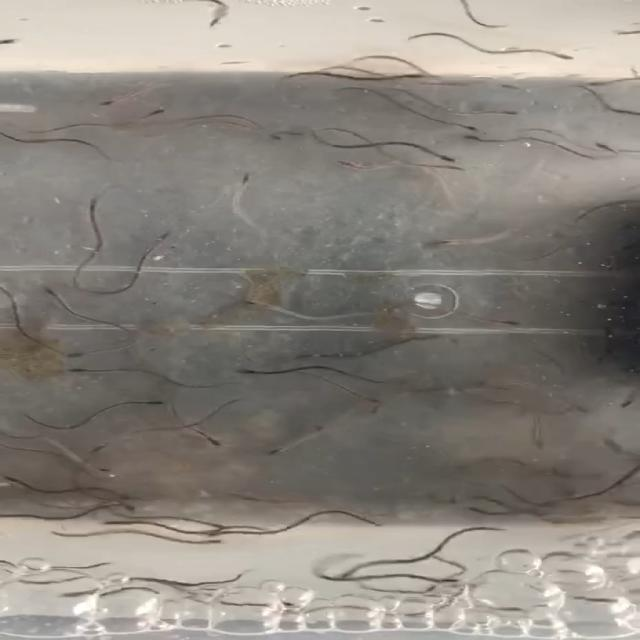active_glass_eel: (116, 228, 191, 256), (480, 314, 548, 343), (249, 128, 310, 152), (22, 130, 76, 156), (279, 517, 342, 539), (142, 104, 198, 128), (23, 283, 88, 303), (202, 526, 258, 548), (214, 170, 264, 194), (357, 400, 413, 421), (112, 487, 151, 517), (230, 286, 274, 312), (334, 148, 369, 180), (332, 562, 380, 585), (45, 351, 98, 371), (428, 574, 481, 594), (552, 36, 586, 65), (251, 446, 309, 463), (434, 225, 468, 253), (370, 65, 430, 80), (492, 72, 530, 95), (472, 103, 536, 116), (422, 145, 458, 168), (175, 421, 218, 440), (191, 12, 241, 28), (232, 363, 274, 382), (236, 530, 273, 551), (444, 120, 486, 138), (292, 386, 344, 400), (401, 538, 439, 557), (85, 93, 120, 112), (566, 130, 599, 149), (149, 399, 181, 418), (493, 117, 528, 134), (134, 382, 172, 396), (392, 36, 430, 49)
